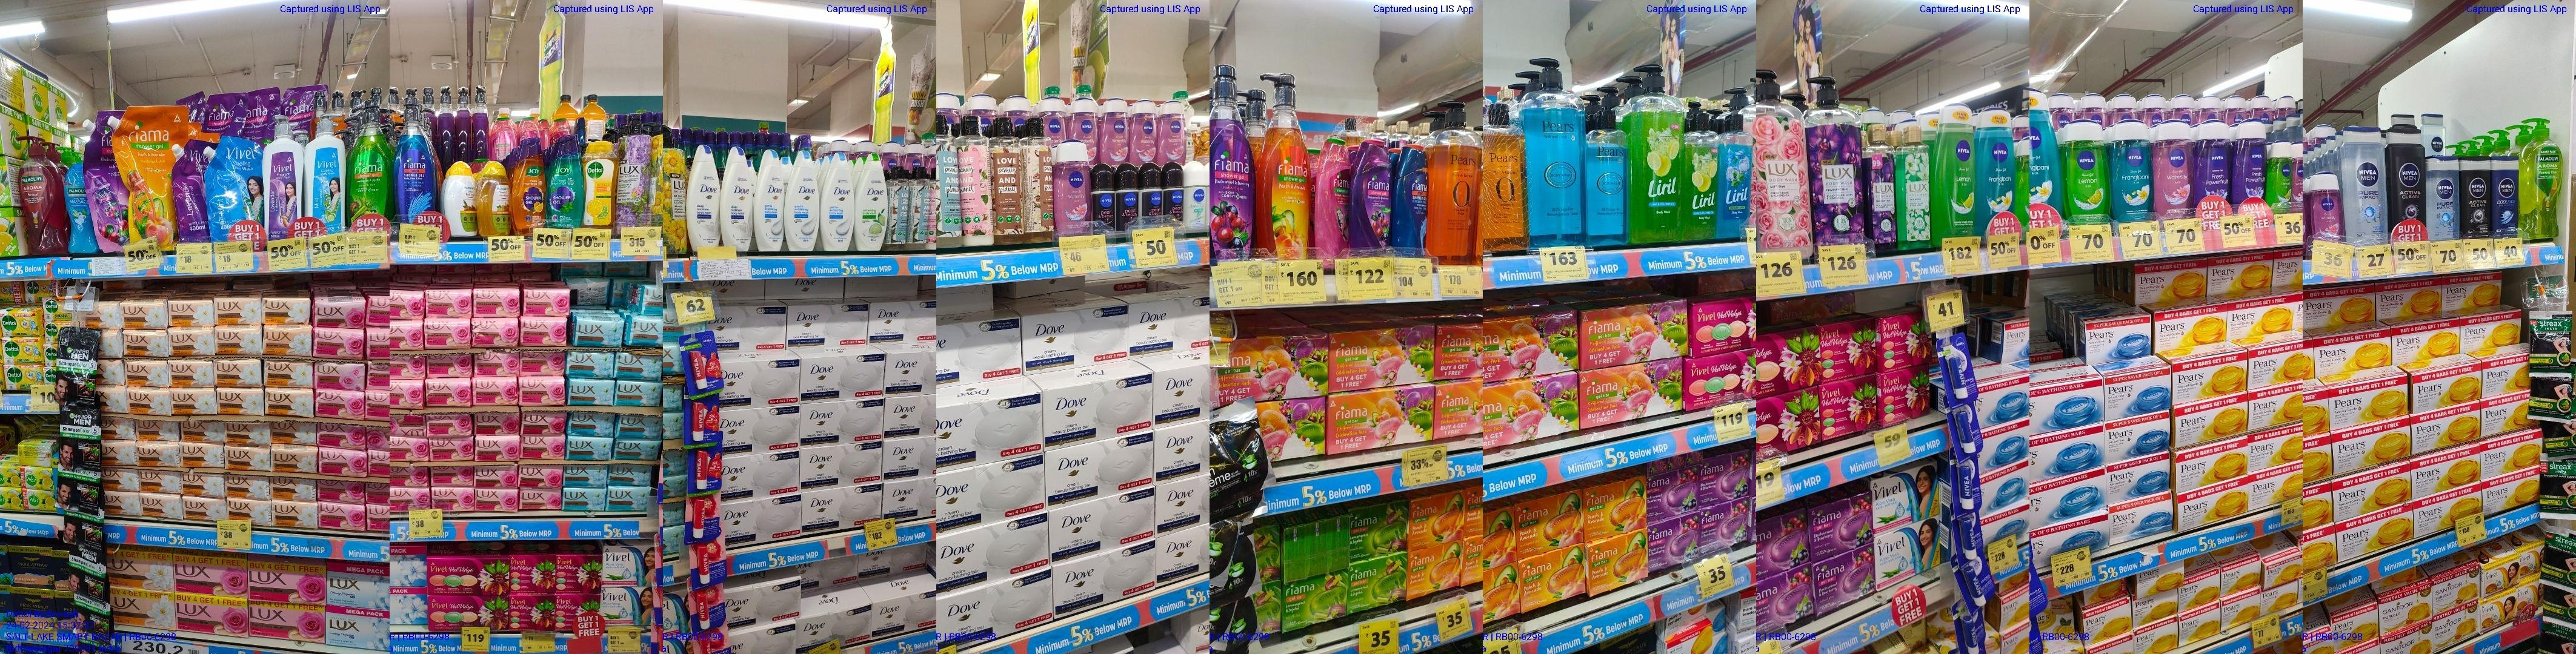Dettol_Bodywash_Refresh: (583, 140, 616, 228)
Dove_Deep_Moisture_Body_Wash_250ML: (690, 145, 720, 251), (723, 146, 752, 253)
Dove_Gentle_Exfoliating_Body_Wash_250ML: (785, 151, 818, 253), (821, 150, 854, 251), (756, 150, 784, 251)
Dove_Refreshing_Body_Wash_250ML: (856, 153, 887, 251)
Joy_Shower_Gel_Mandarin_and_Lemongrass_250ML: (513, 136, 547, 232)
Joy_Shower_Gel_Mint_and_Eucalyptus_250ML: (550, 133, 582, 227)
Liril_Cooling_Mint_Body_Wash_250ML: (1722, 113, 1755, 240)
Liril_Lime_and_Tea_Tree_Oil_Body_Wash_250ML: (1687, 112, 1720, 240)
Lux_Black_Orchid_Scent_and_Juniper_Oil_Body_Wash_245ML: (1865, 125, 1896, 253)
Lux_Body_Wash_Skin_Detox_Freesia_Scent_and_Alove_Vera_245ML: (1897, 125, 1932, 250)
Nivea_Shower_Gel_Frangipani_and_Oil_250ML: (1980, 108, 2016, 235), (2113, 122, 2150, 222)
Nivea_Shower_Gel_Fresh_Powerfruit_250ML: (2196, 123, 2234, 217), (2234, 120, 2265, 207)
Nivea_Shower_Gel_Lemon_and_Oil_250ML: (1937, 102, 1975, 238), (2067, 120, 2109, 223)
Nivea_Shower_Gel_Waterlily_and_Oil_250ML: (2157, 118, 2196, 217), (1055, 141, 1094, 235)
